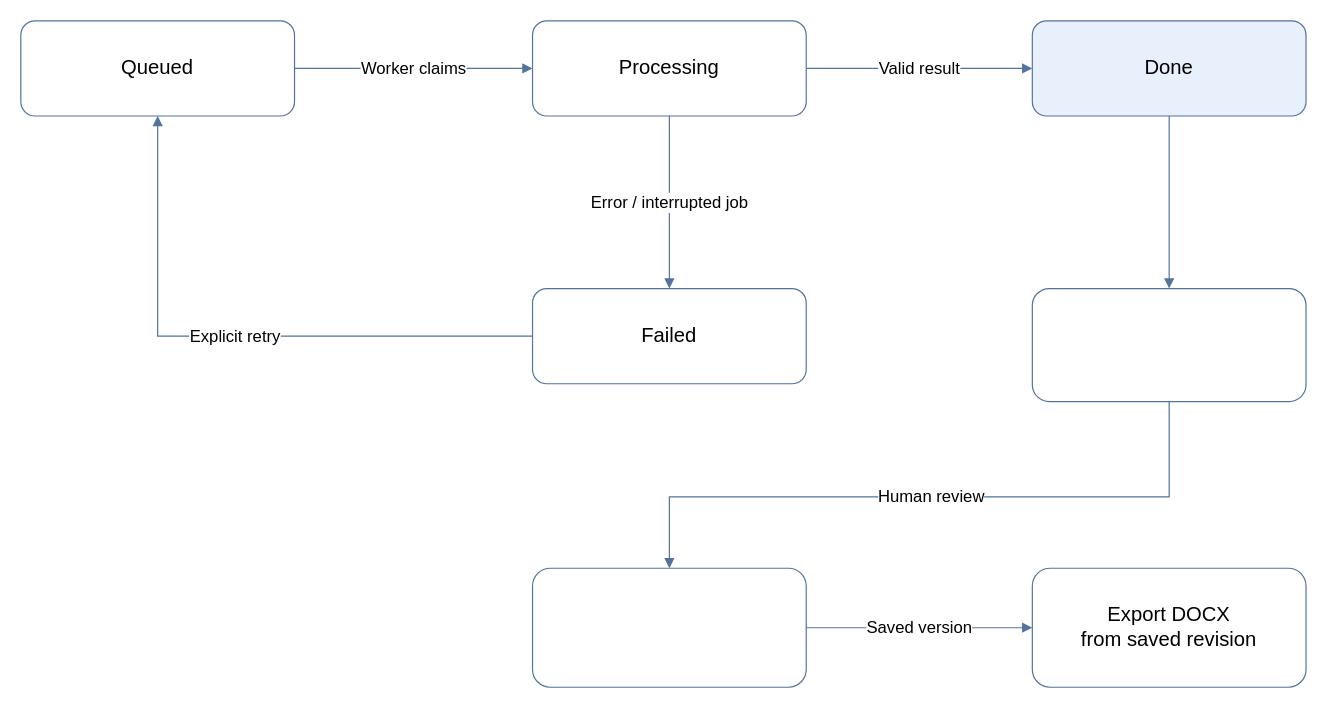
Some shapes in this 1327 by 708 pixel diagram are drawn without their labels. Each missing label, with the box of its shape:
Immutable original + latest review JSON: (1031, 287, 1306, 402)
Save corrections expected_revision: (531, 567, 806, 687)
